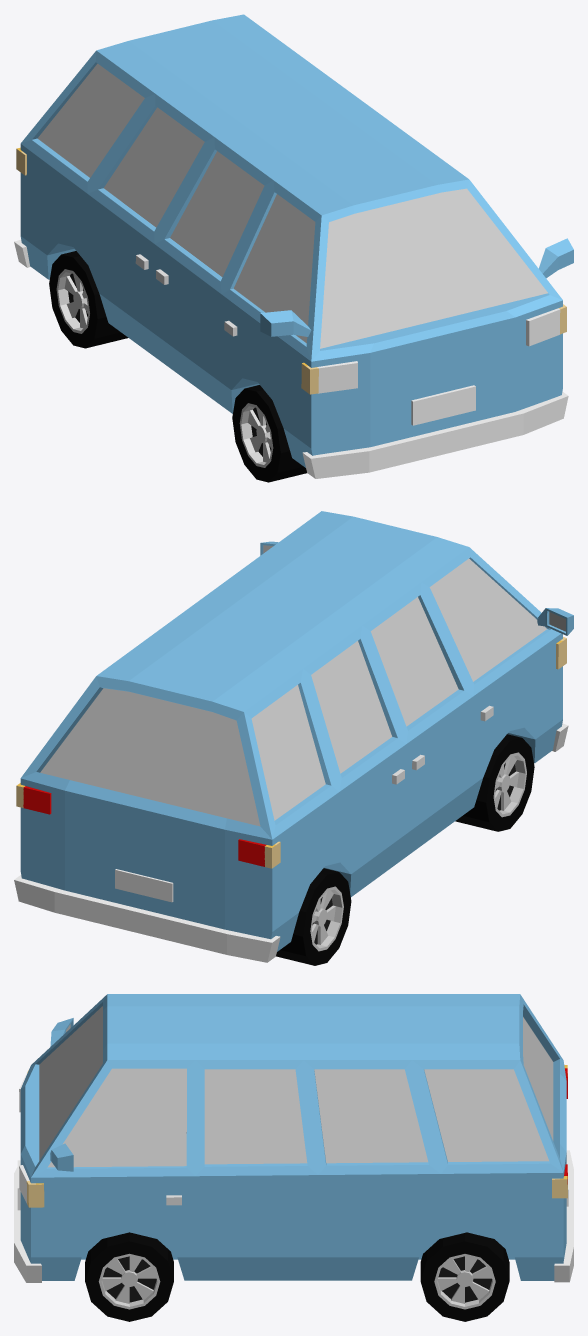
Rendered from Car-05-B.fbx.
3 views of the same model, one above another, from view 1: azimuth 30°, elevation 25°; view 2: azimuth 150°, elevation 25°; view 3: azimuth 270°, elevation 25° (orthographic). The views are drawn at different scales.
Parts seen in each view (by area): view 1: Car-05, FR, BR, HeadLight, Light-Right; view 2: Car-05, BR, FR, Break-Light, Light-Right; view 3: Car-05, BL, FL, Light-Left.
Boxes of the visible parts, x1,y1,x2,y2 form: Car-05: (14, 14, 573, 478); FR: (232, 385, 306, 482); BR: (49, 251, 128, 348); HeadLight: (317, 308, 560, 393); Light-Right: (16, 148, 318, 394); Car-05: (14, 511, 573, 962); BR: (276, 868, 351, 965); FR: (455, 734, 534, 831); Break-Light: (23, 787, 264, 866); Light-Right: (264, 637, 566, 868); Car-05: (14, 994, 573, 1282); BL: (420, 1232, 509, 1321); FL: (85, 1232, 173, 1321); Light-Left: (26, 1178, 567, 1207).
Size of the model in its own units: 2.52 by 2.06 by 4.35.
